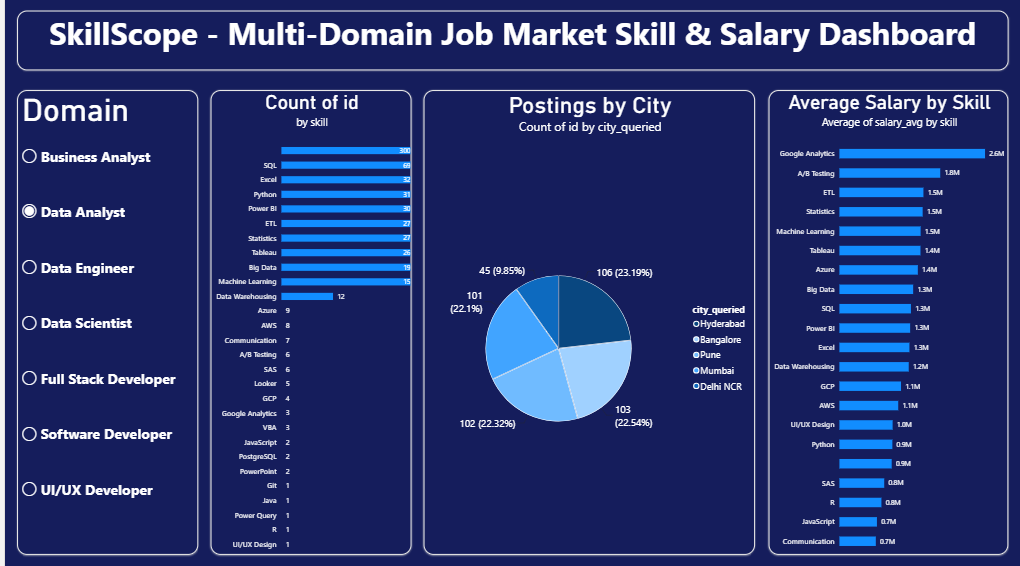

The page's visual inventory and layout, read from the dashboard file:
{"tool":"powerbi","page":{"name":"Page 1","canvas":[1920,1080],"ordinal":0},"visuals":[{"type":"slicer","fields":{"Values":["postings_flattened.domain"]},"box":[22.7,170.1,343,878.7],"z":0},{"type":"clusteredBarChart","fields":{"Category":["postings_flattened.skill"],"Y":["Count(postings_flattened.id)"]},"box":[388.3,170.1,379.8,878.7],"z":1},{"type":"pieChart","title":"Postings by City","fields":{"Category":["postings_flattened.city_queried"],"Y":["Count(postings_flattened.id)"]},"box":[790.9,170.1,626.5,878.7],"z":2},{"type":"clusteredBarChart","title":"Average Salary by Skill","fields":{"Category":["postings_flattened.skill"],"Y":["Avg(postings_flattened.salary_avg)"]},"box":[1442.8,170.1,453.5,878.7],"z":3},{"type":"textbox","box":[22.7,19.8,1873.7,113.4],"z":5}]}

Visuals, with their boxes in screenshot pixels (x1, y1, x2, y2), scaled from the page's 1920x1080 canvas onto the 1020x566 screenshot:
slicer - postings_flattened.domain: (12, 89, 194, 550)
clusteredBarChart - postings_flattened.skill x Count(postings_flattened.id): (206, 89, 408, 550)
"Postings by City" pieChart: (420, 89, 753, 550)
"Average Salary by Skill" clusteredBarChart: (766, 89, 1007, 550)
textbox: (12, 10, 1007, 70)
